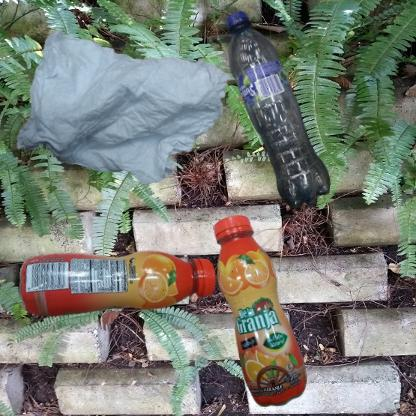botella: (10, 213, 252, 376), (213, 10, 345, 216), (213, 213, 308, 412)
papel: (10, 10, 262, 226)
